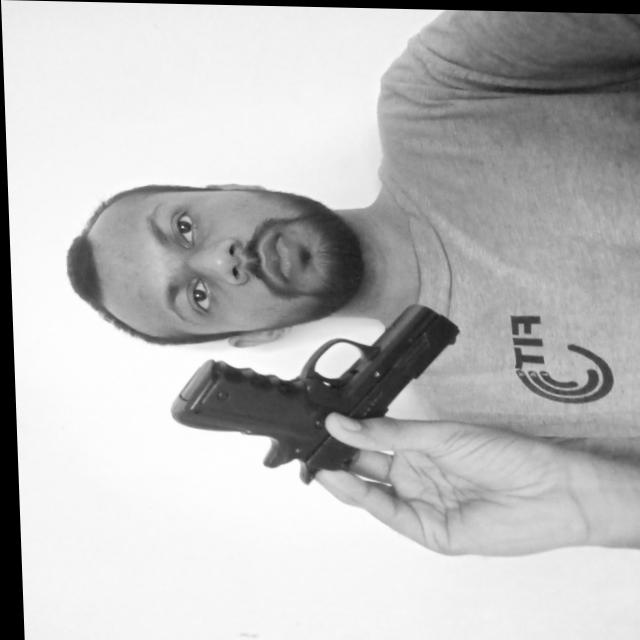handgun: (158, 297, 463, 486)
